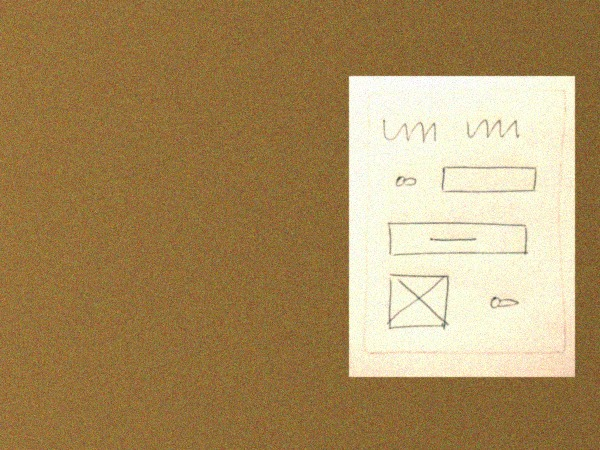button: (382, 217, 534, 263)
image: (383, 269, 453, 334)
switch: (388, 167, 421, 194), (484, 292, 525, 312)
text: (379, 115, 441, 149), (460, 114, 524, 146)
text_input: (434, 161, 540, 199)
